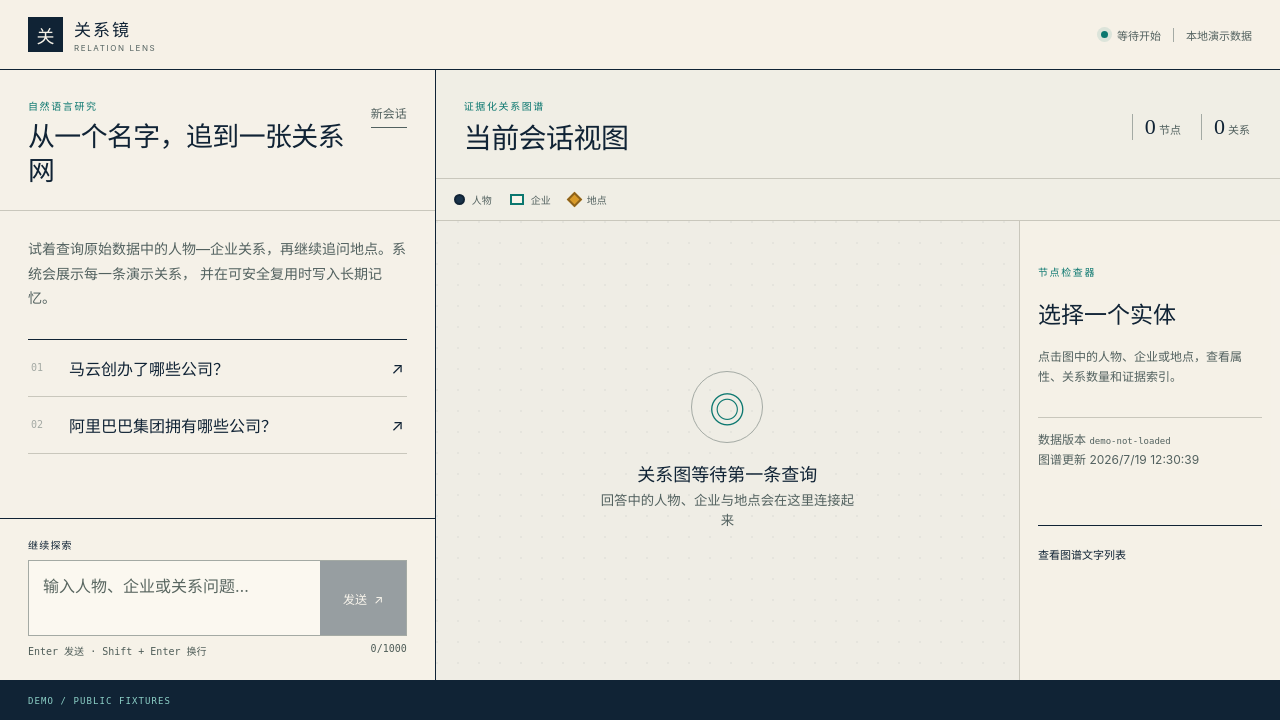
Test: App › sends the conversation ID with a follow-up
Click the button "01 马云创办了哪些公司？ ↗": (217,368) [28,340,407,397]
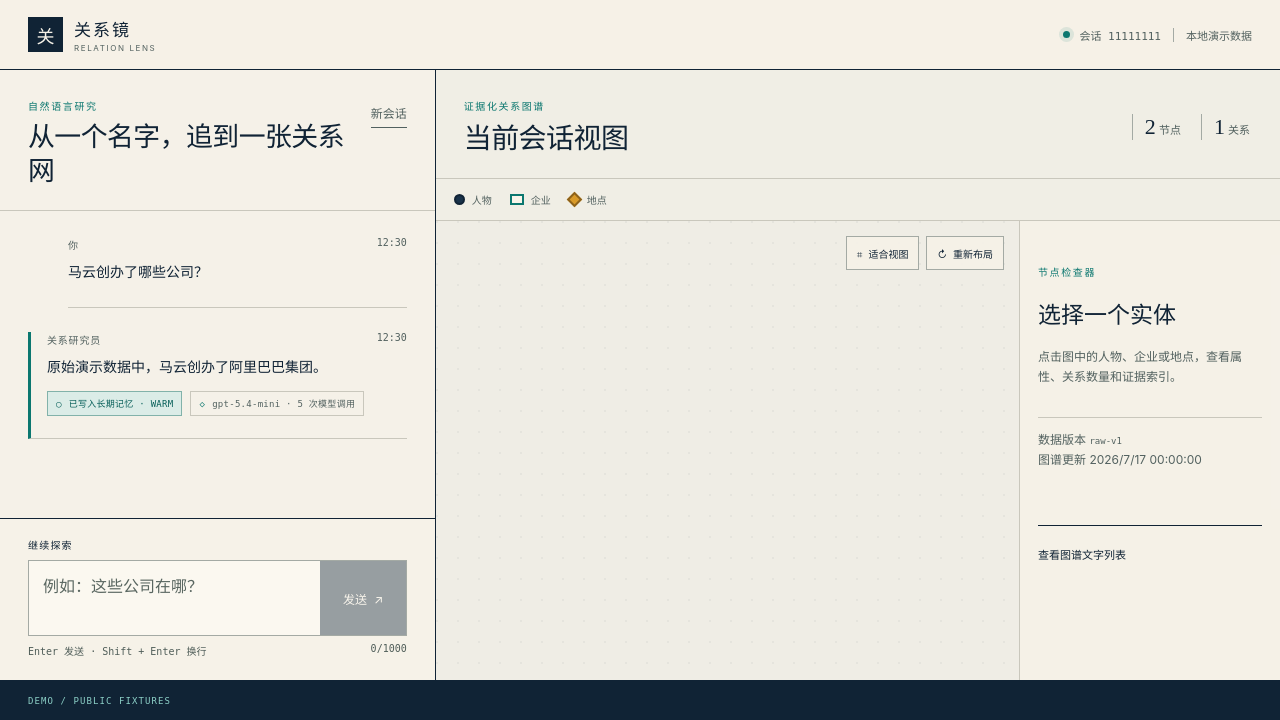
Expected: the text "原始演示数据中，马云创办了阿里巴巴集团。" is shown, [47,358,327,375]
In the text box labelled "继续探索": (174,598) [29,561,320,635], type "这些公司在哪？"
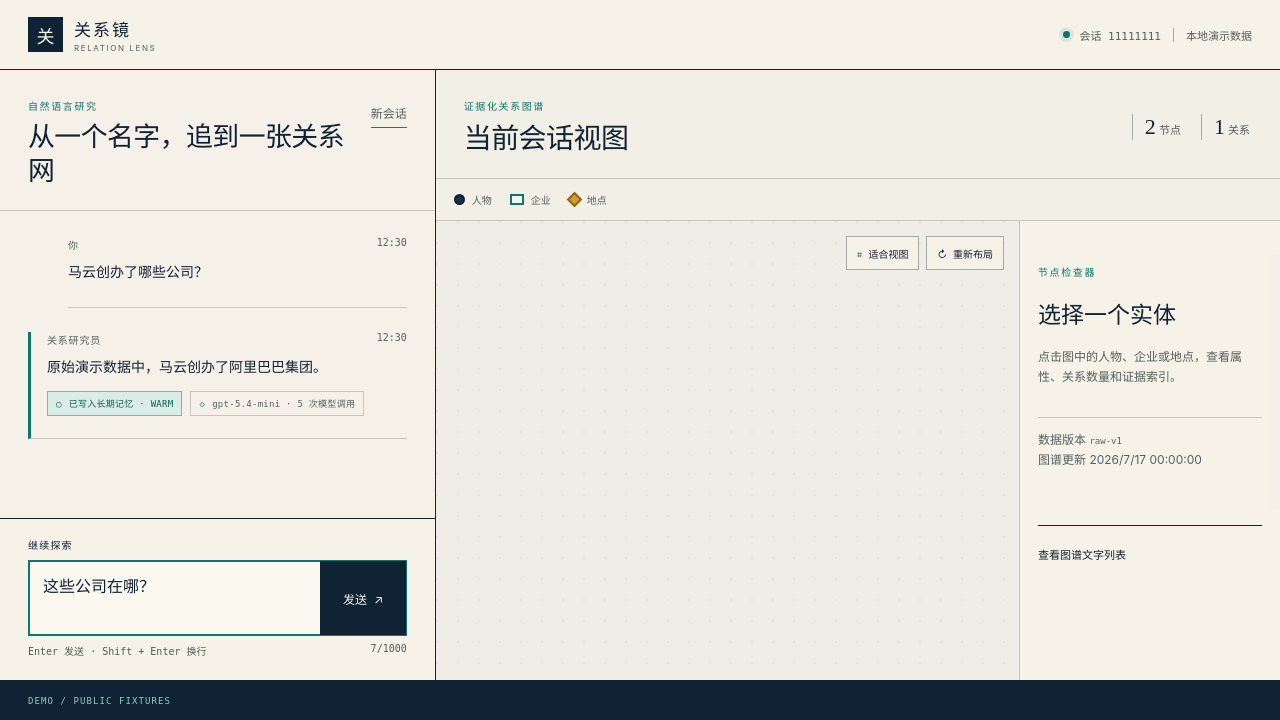
Click the button with aria-label "发送查询": (363,598) [320,561,406,635]
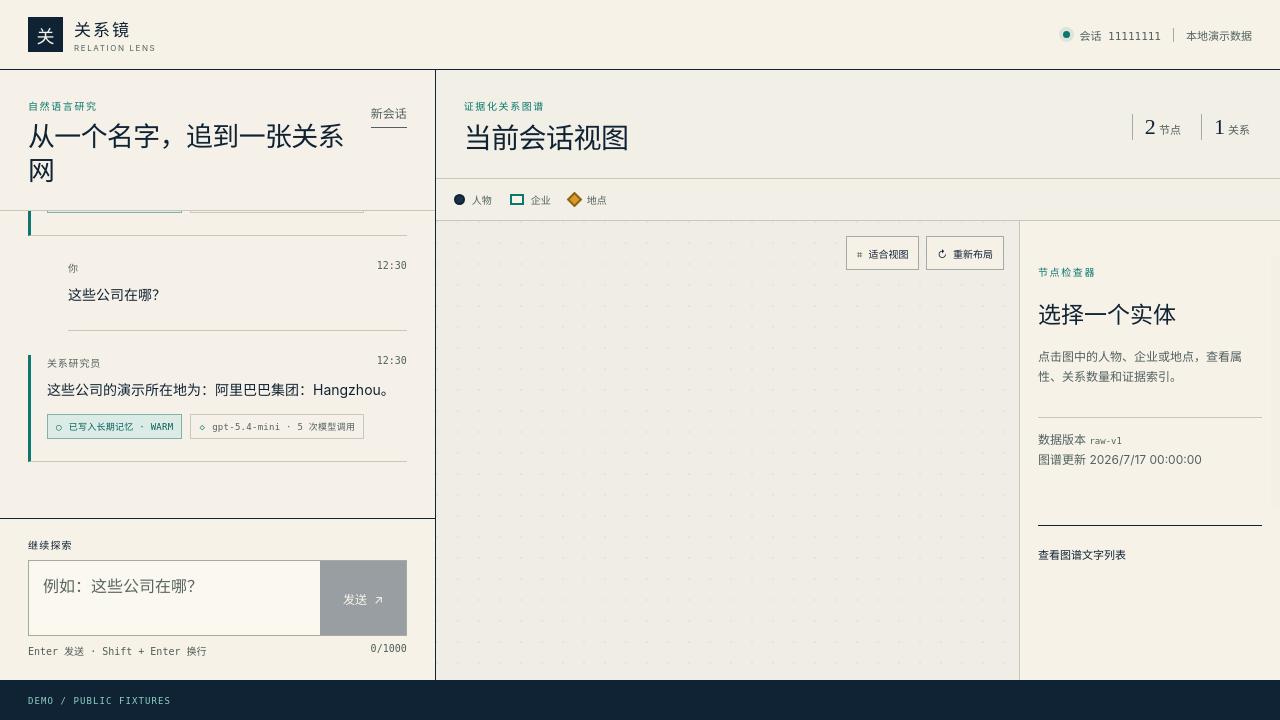
Expected: the text "这些公司的演示所在地为：阿里巴巴集团：Hangzhou。" is shown, [47,378,407,402]
Expected: the text "这些公司在哪？" is shown, [68,286,166,303]
